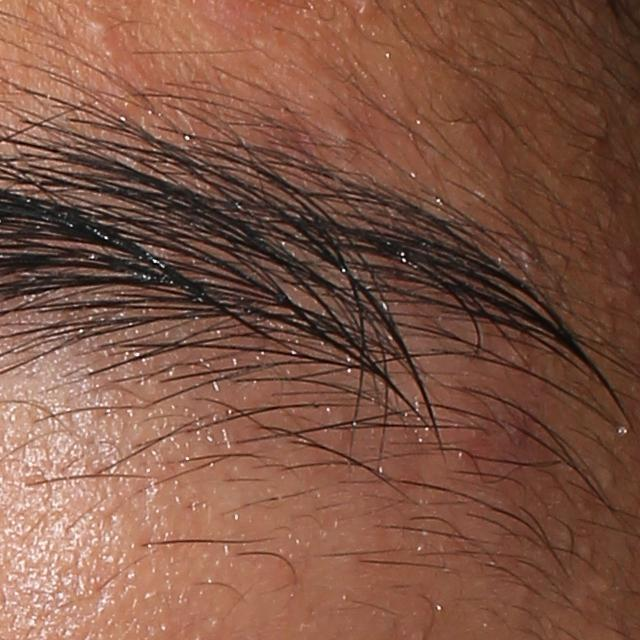comedo: (329, 110, 357, 150), (87, 16, 115, 49), (573, 538, 598, 572)
